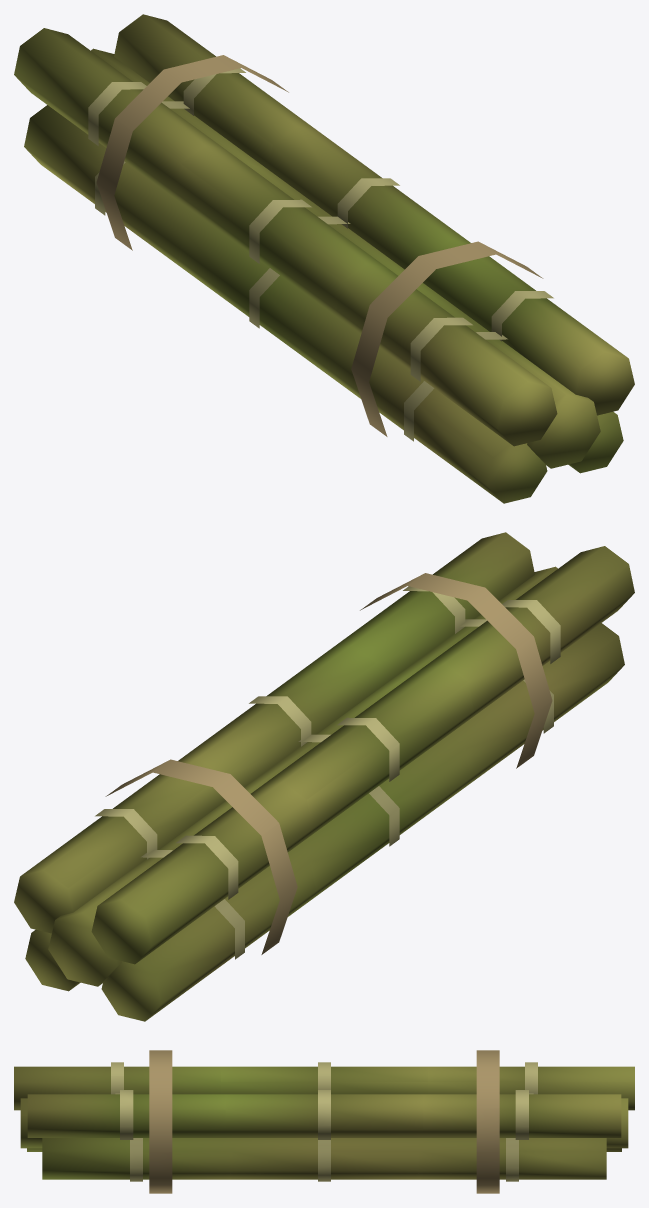
File: prop.bamboo_log.glb
3 views of the same model, one above another, from view 1: azimuth 30°, elevation 25°; view 2: azimuth 150°, elevation 25°; view 3: azimuth 270°, elevation 25° (orthographic). The views are drawn at different scales.
Visible parts, largest first — view 1: bamboo_log; view 2: bamboo_log; view 3: bamboo_log.
Part boxes in pixels (bbox=[...]): bamboo_log: bbox=[14, 14, 634, 503]; bamboo_log: bbox=[14, 532, 634, 1021]; bamboo_log: bbox=[14, 1050, 634, 1193].
Size of the model in its own units: 0.88 by 0.837 by 3.79.
